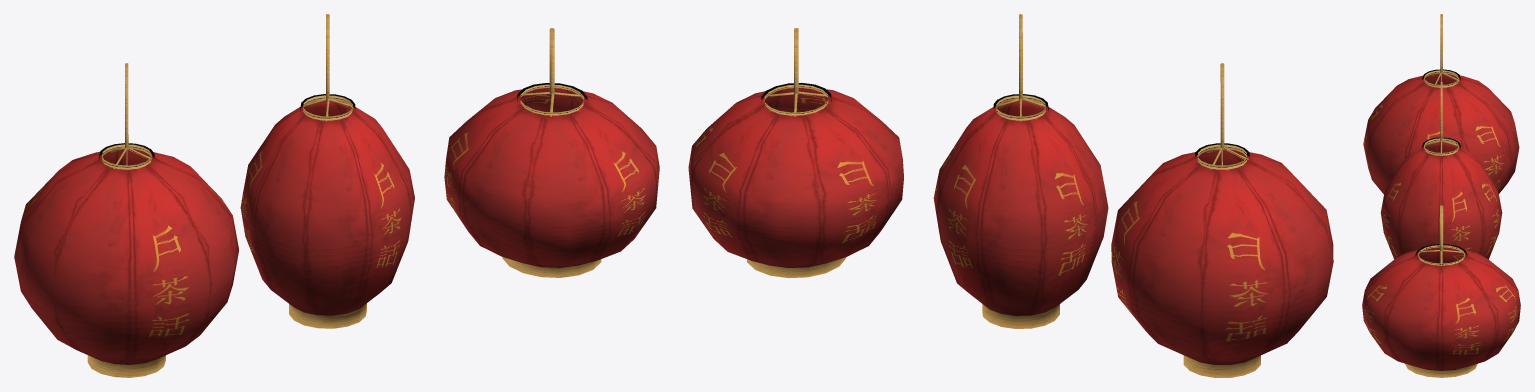
The model's file is lanterns.glb.
3 views of the same model, side by side, from view 1: azimuth 30°, elevation 25°; view 2: azimuth 150°, elevation 25°; view 3: azimuth 270°, elevation 25° (orthographic). The views are drawn at different scales.
Parts seen in each view (by area): view 1: big; view 2: big; view 3: big.
Part boxes in pixels (<box>): big: <box>14,14,659,377</box>; big: <box>688,14,1333,377</box>; big: <box>1362,14,1520,377</box>.
Size of the model in its own units: 3.4 by 1.57 by 1.1.
Materials: 4 (2 with a texture image).
